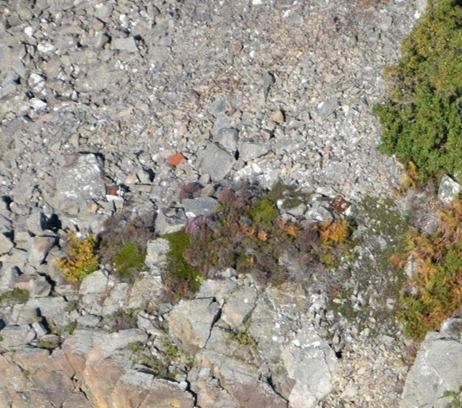white_in_green: (145, 132, 209, 180)
